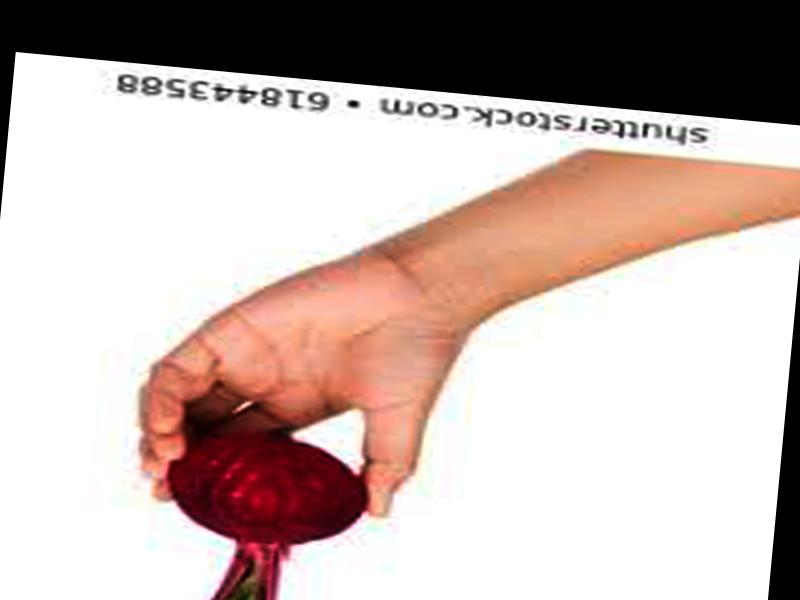Beet: (151, 423, 370, 600)
